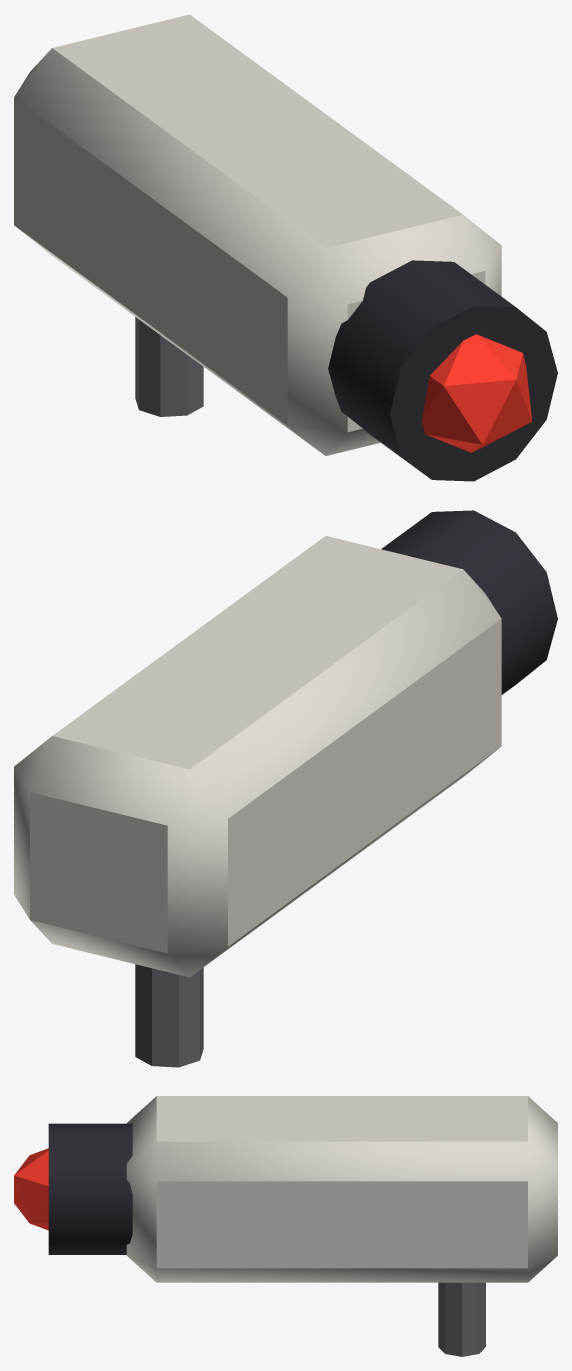
The model's file is cctv_pole.glb.
3 renders of one model, top to bottom at view 1: azimuth 30°, elevation 25°; view 2: azimuth 150°, elevation 25°; view 3: azimuth 270°, elevation 25°, orthographic. The views are drawn at different scales.
Visible parts, largest first — view 1: cctv_pole; view 2: cctv_pole; view 3: cctv_pole.
Part boxes in pixels (x1,y1,x2,y2): cctv_pole: (14, 14, 557, 481); cctv_pole: (14, 510, 557, 1067); cctv_pole: (14, 1096, 557, 1356).
Bounding box in the file's own units: 0.28 × 0.42 × 0.9081.
